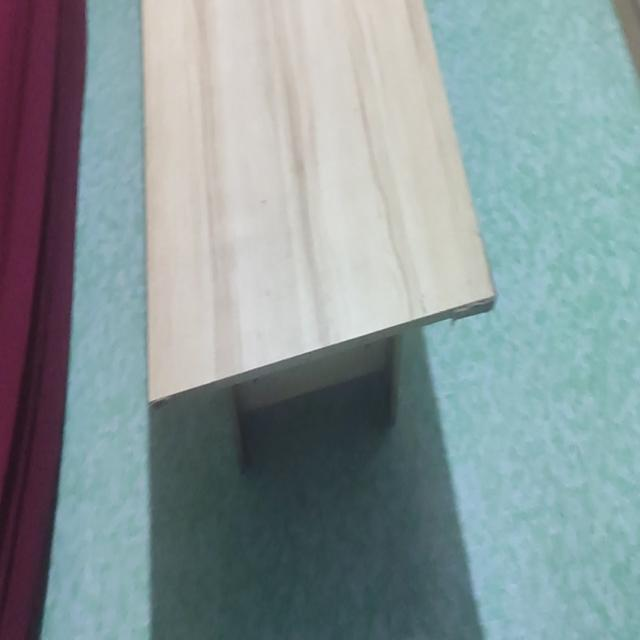table: (136, 0, 498, 488)
